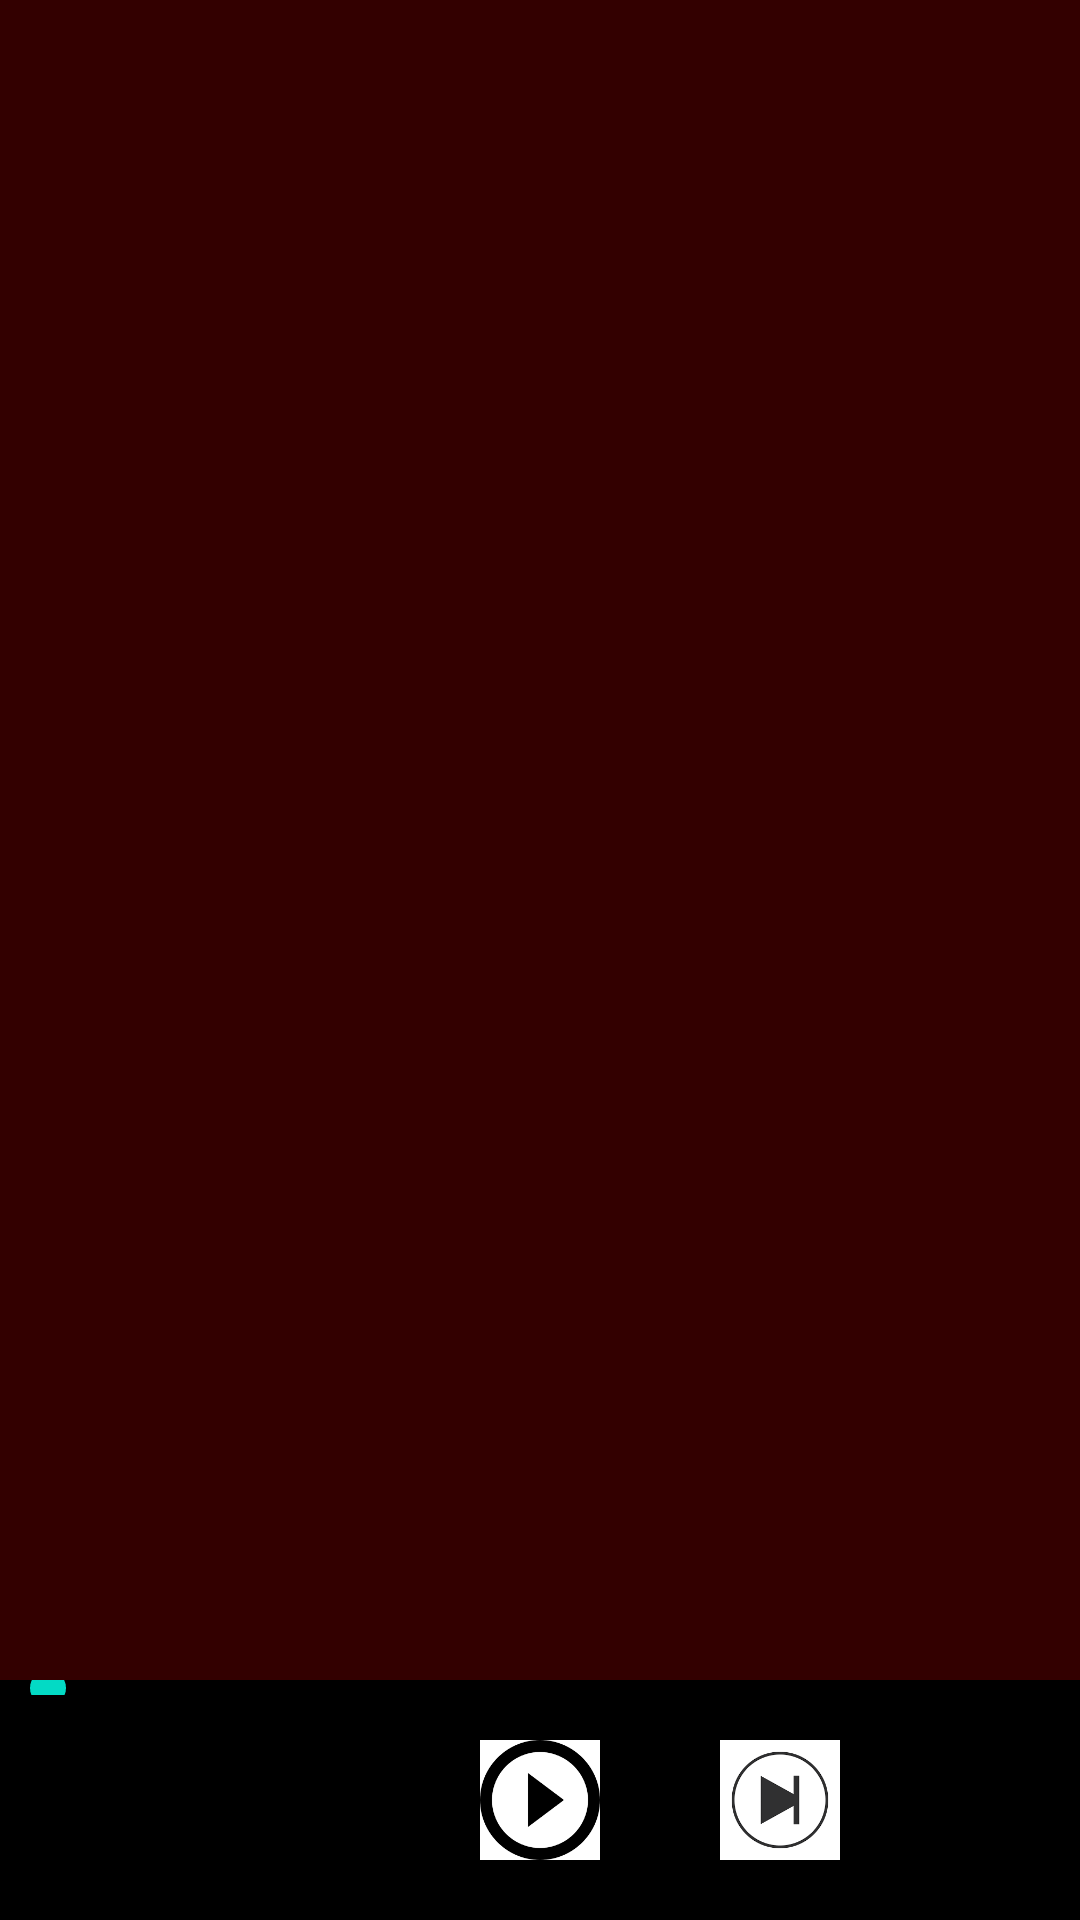

Icon click points for this 1080w x 1920h phone screenshot, format [x,y]:
next: [780,1800]
play: [540,1800]
